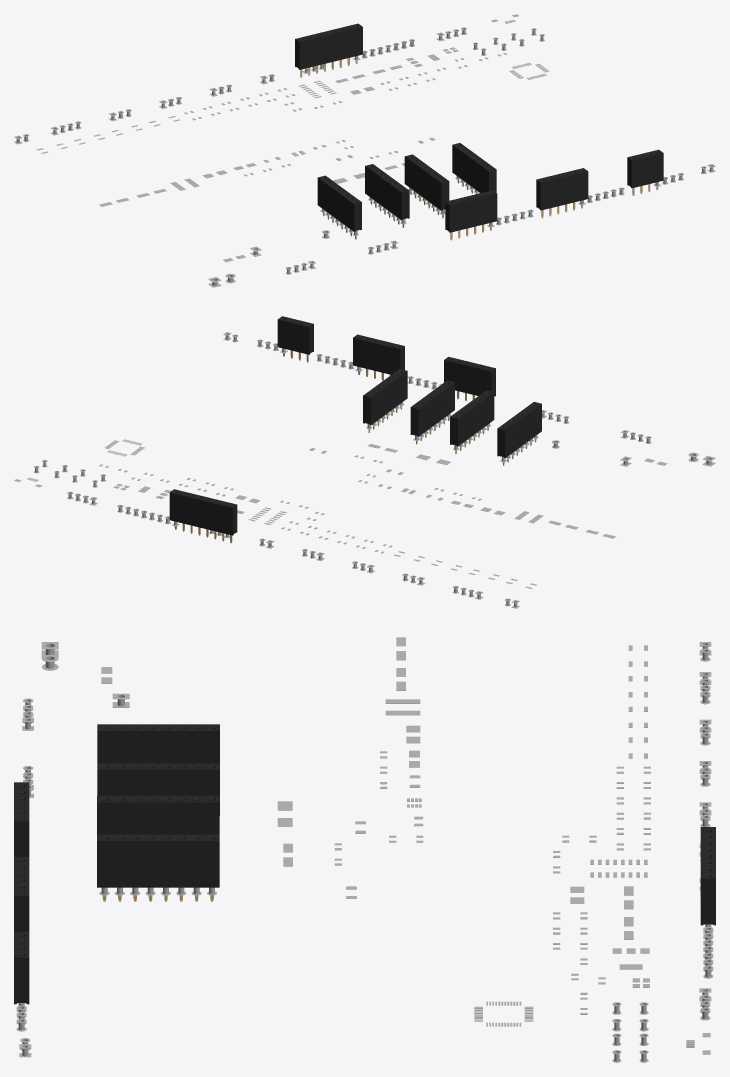
Rendered from black_sock.glb.
3 views of the same model, one above another, from view 1: azimuth 30°, elevation 25°; view 2: azimuth 150°, elevation 25°; view 3: azimuth 270°, elevation 25° (orthographic). The views are drawn at different scales.
Visible parts, largest first — view 1: =>[0:1:1:3] (×5), =>[0:1:1:8], =>[0:1:1:5] (×2), =>[0:1:1:7]; view 2: =>[0:1:1:3] (×5), =>[0:1:1:8], =>[0:1:1:5] (×2), =>[0:1:1:7]; view 3: =>[0:1:1:3] (×5), =>[0:1:1:8], =>[0:1:1:5] (×2), =>[0:1:1:7].
Part boxes in pixels (x1,y1,x2,y2): =>[0:1:1:3] (×5): (295,23,496,239); =>[0:1:1:8]: (14,14,715,287); =>[0:1:1:5] (×2): (445,168,588,240); =>[0:1:1:7]: (627,149,663,195); =>[0:1:1:3] (×5): (169,369,541,543); =>[0:1:1:8]: (14,332,715,608); =>[0:1:1:5] (×2): (353,334,495,400); =>[0:1:1:7]: (277,316,313,362); =>[0:1:1:3] (×5): (97,724,715,925); =>[0:1:1:8]: (16,637,713,1062); =>[0:1:1:5] (×2): (14,782,29,931); =>[0:1:1:7]: (14,931,29,1004).
Bounding box in the file's own units: 0.1633 × 0.0116 × 0.1161.
